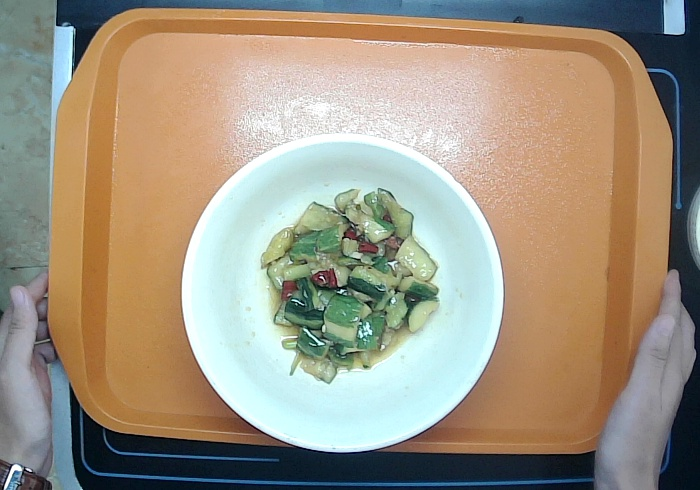ZNLD-Da_Tang_Wan: (178, 130, 505, 454)
